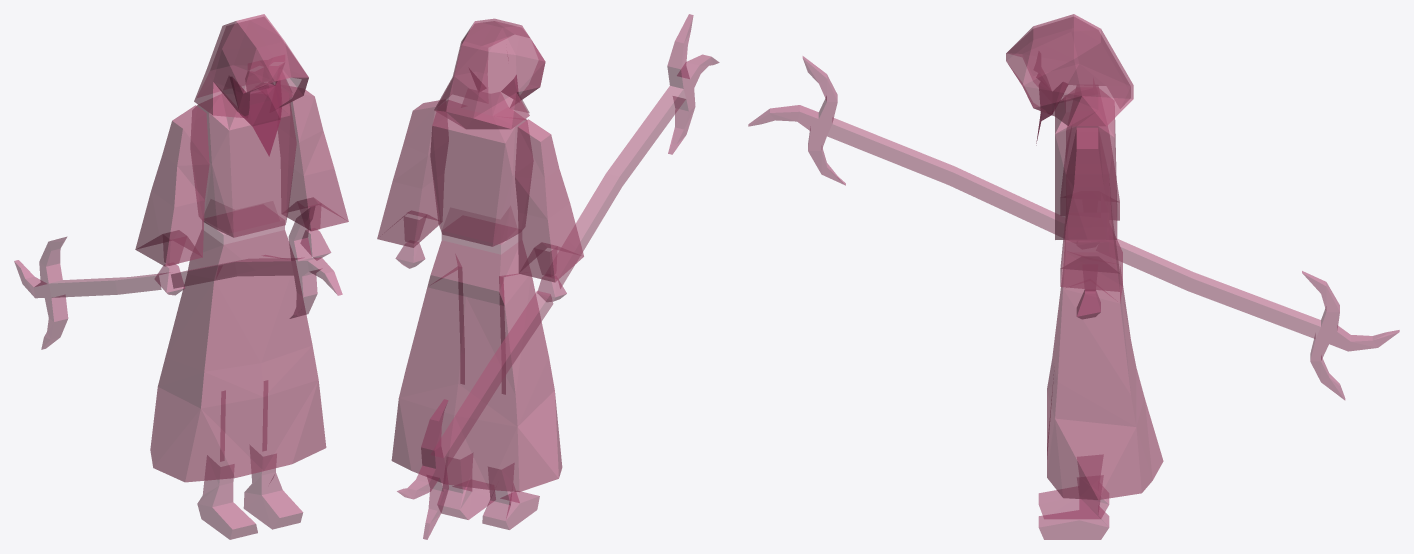
The model's file is ahrim.glb.
The picture shows the model from 3 angles, left to right: view 1: azimuth 30°, elevation 25°; view 2: azimuth 150°, elevation 25°; view 3: azimuth 270°, elevation 25°; orthographic projection. The views are drawn at different scales.
Size of the model in its own units: 78 by 204 by 240.
Materials: 1 (1 with a texture image).
